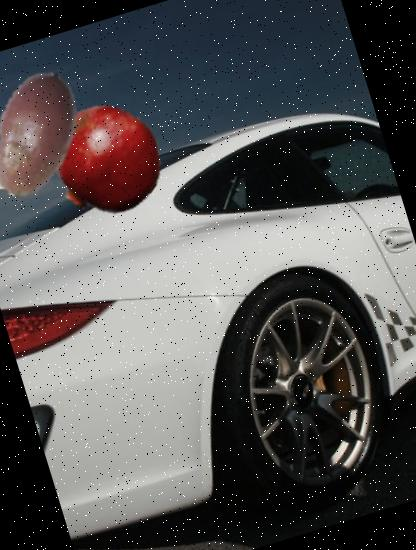Pomegranate: (37, 92, 176, 230)
Potato: (0, 52, 116, 216)
